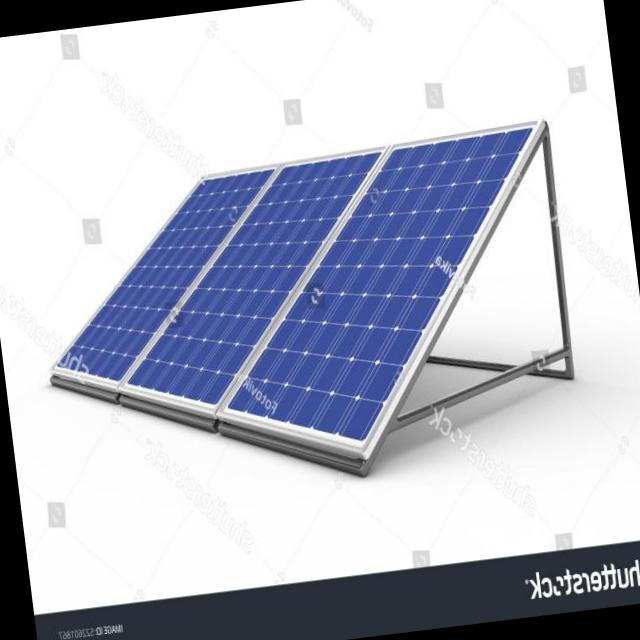no faulty: (235, 134, 527, 433), (127, 150, 381, 407), (59, 179, 267, 376)
